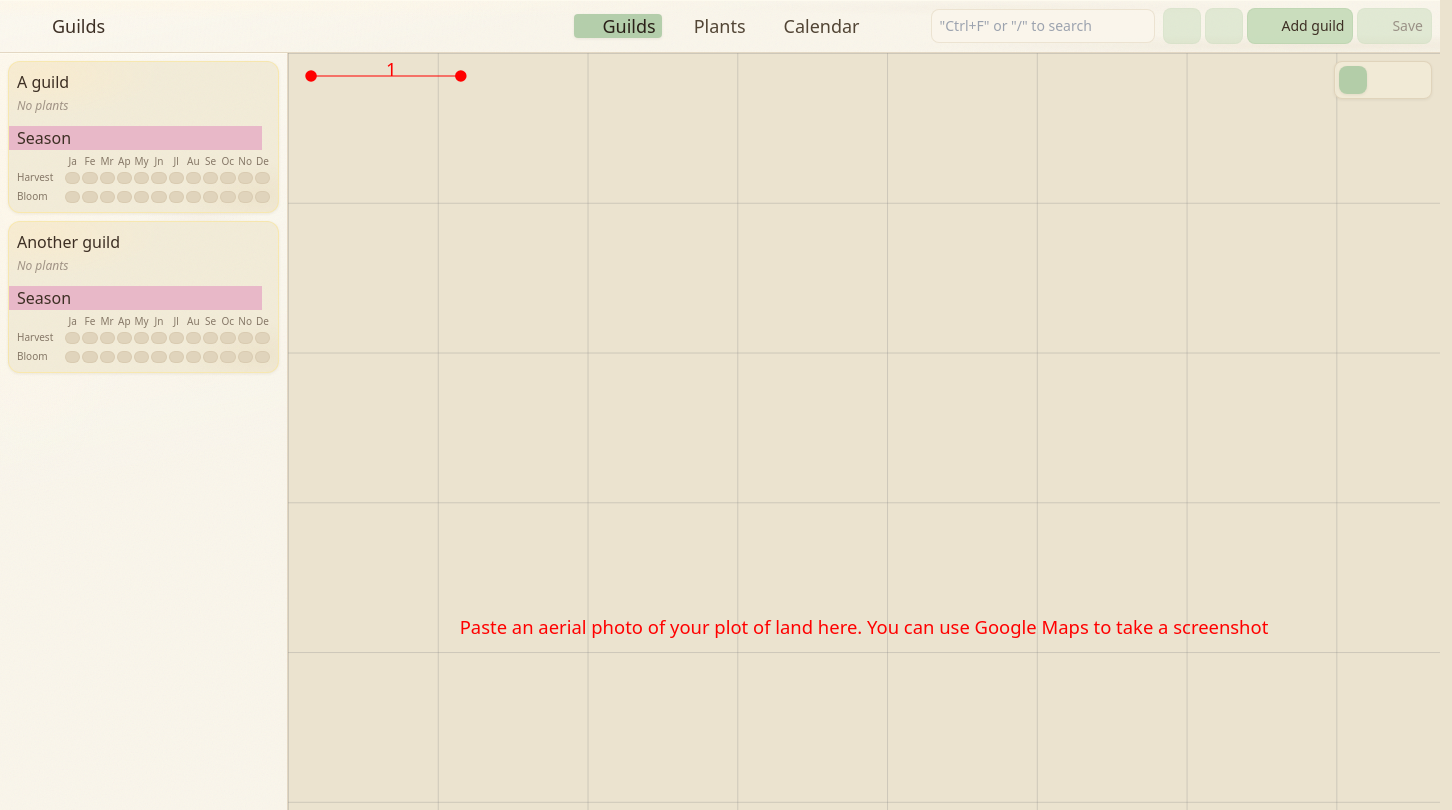
Scenario: filters guilds in the sidebar by search query
In the search field named "Search guilds": [1042, 26] box [930, 9, 1154, 43], type "Another"
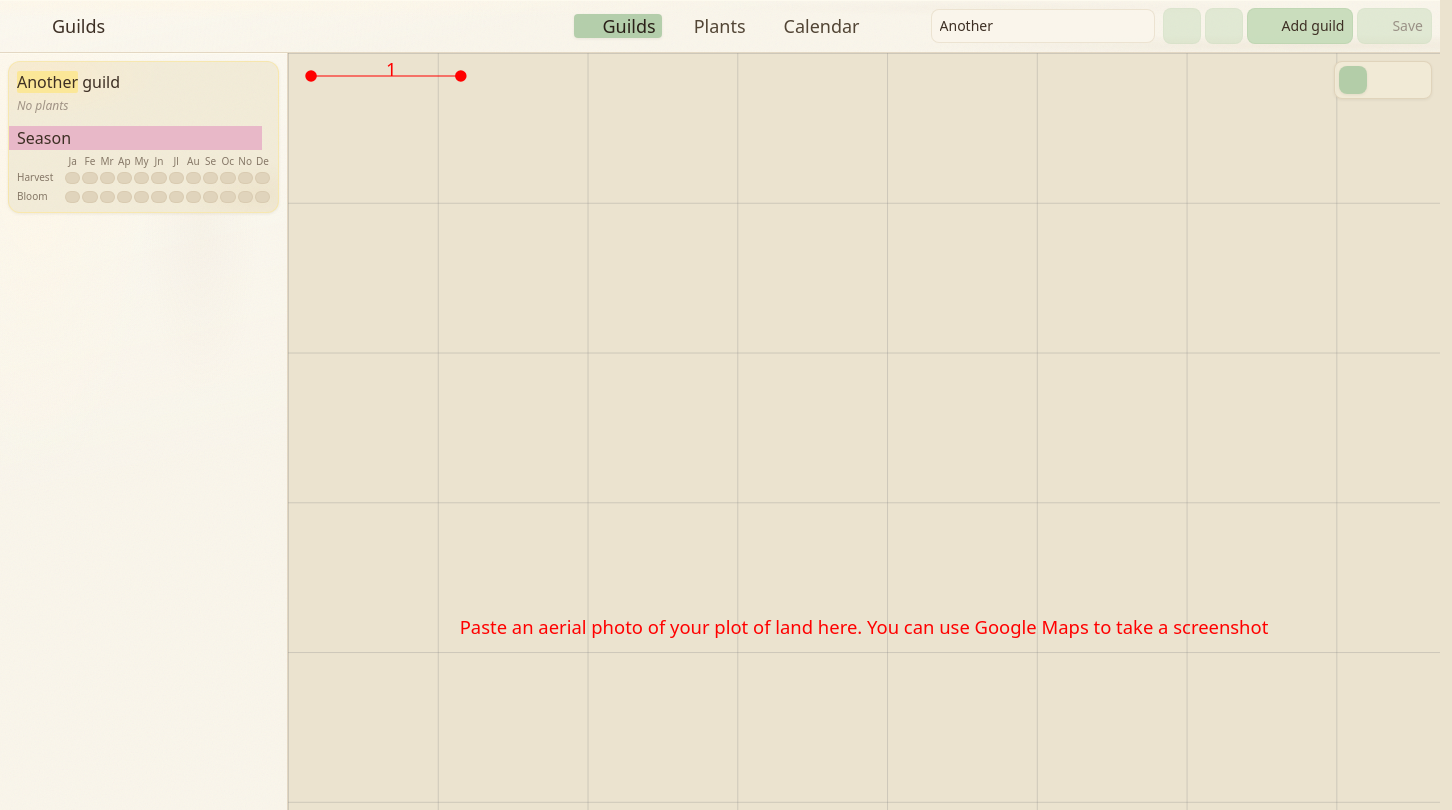
Expected: the element "Another guild" is shown, [8, 61, 279, 213]
Now the text "A guild" is gone
